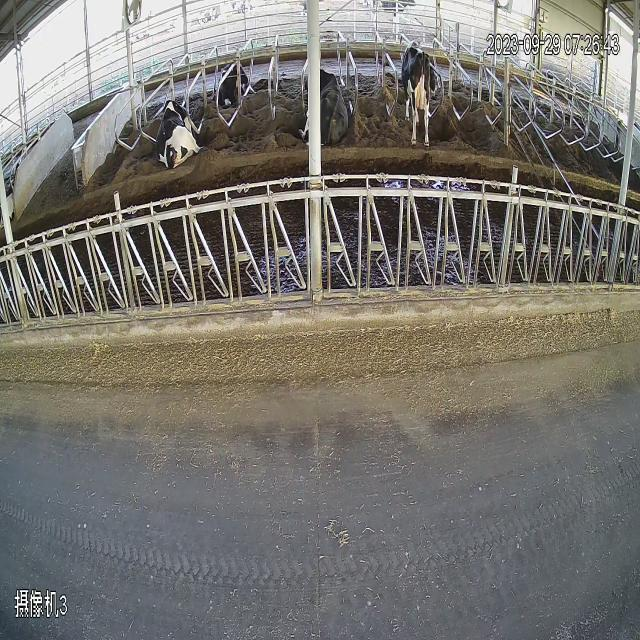lying down: (124, 0, 370, 168)
standing: (389, 12, 445, 160)
